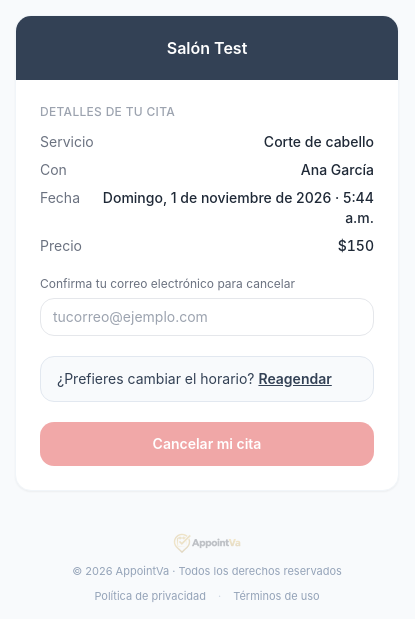
Scenario: CancelarCitaPage › shows confirmation step after entering email and clicking cancel button
Expected: the text "Salón Test" is shown, [167,38,247,58]
Type "juan@test.com" into the field with placeholder "tucorreo@ejemplo.com".
click(207, 317); type("juan@test.com")  # box [40,298,374,336]
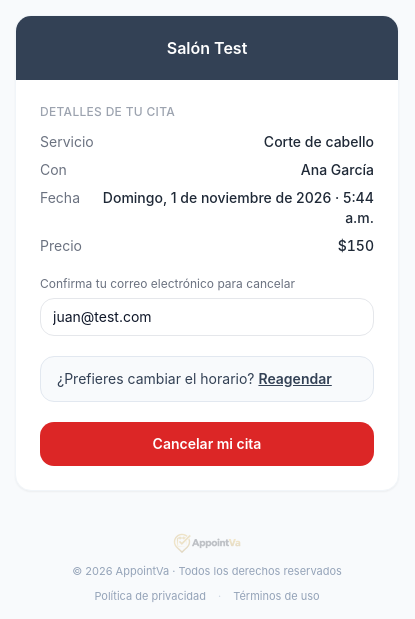
Click the button "Cancelar mi cita".
click(207, 444)  # box [40,422,374,466]
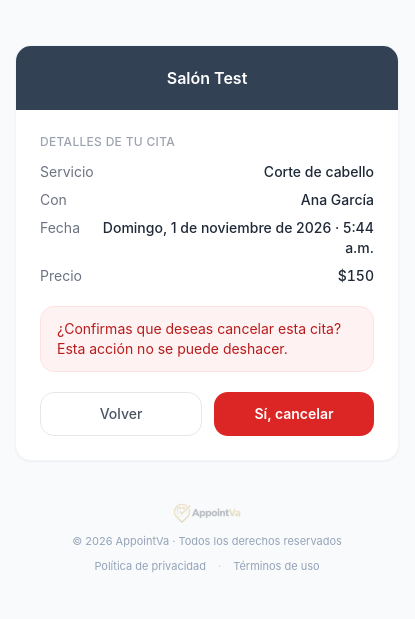
Now the text "¿Confirmas que deseas cancelar esta cita?" is shown, box [57,320,341,357]
